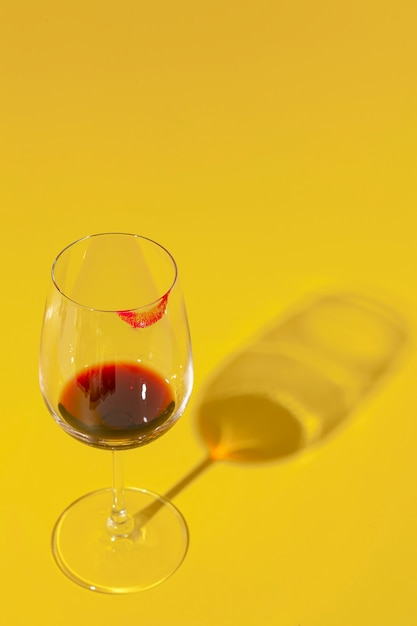alcohol: (35, 231, 196, 594)
